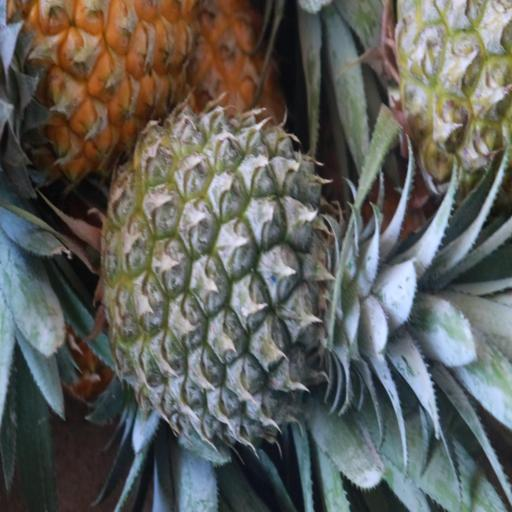Pineapple - v8 v1: (7, 0, 197, 173)
